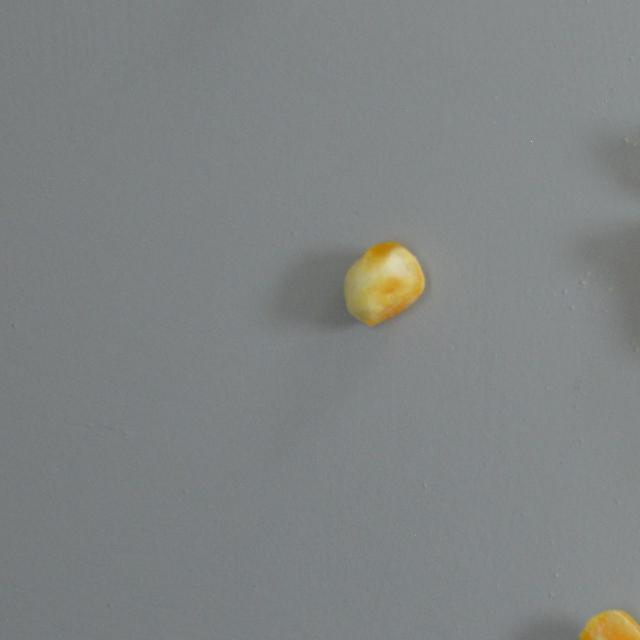dañado: (337, 234, 430, 332), (575, 602, 640, 640)
